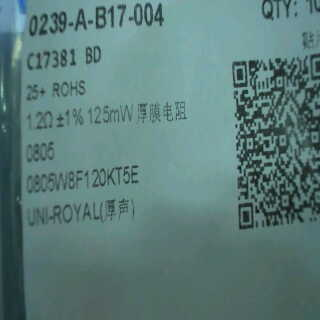1.2R: (23, 109, 54, 167)
